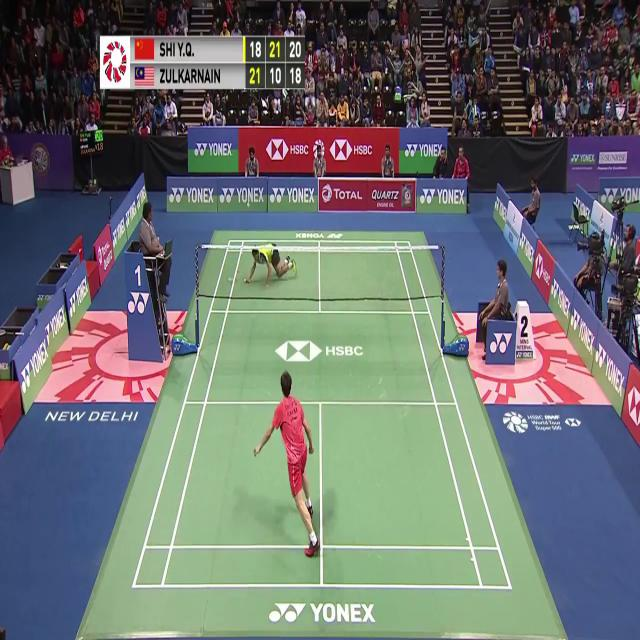Shuttlecock: (244, 200, 251, 211)
